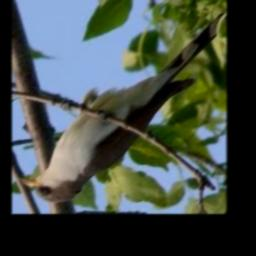Cuckoo: (20, 8, 227, 202)
